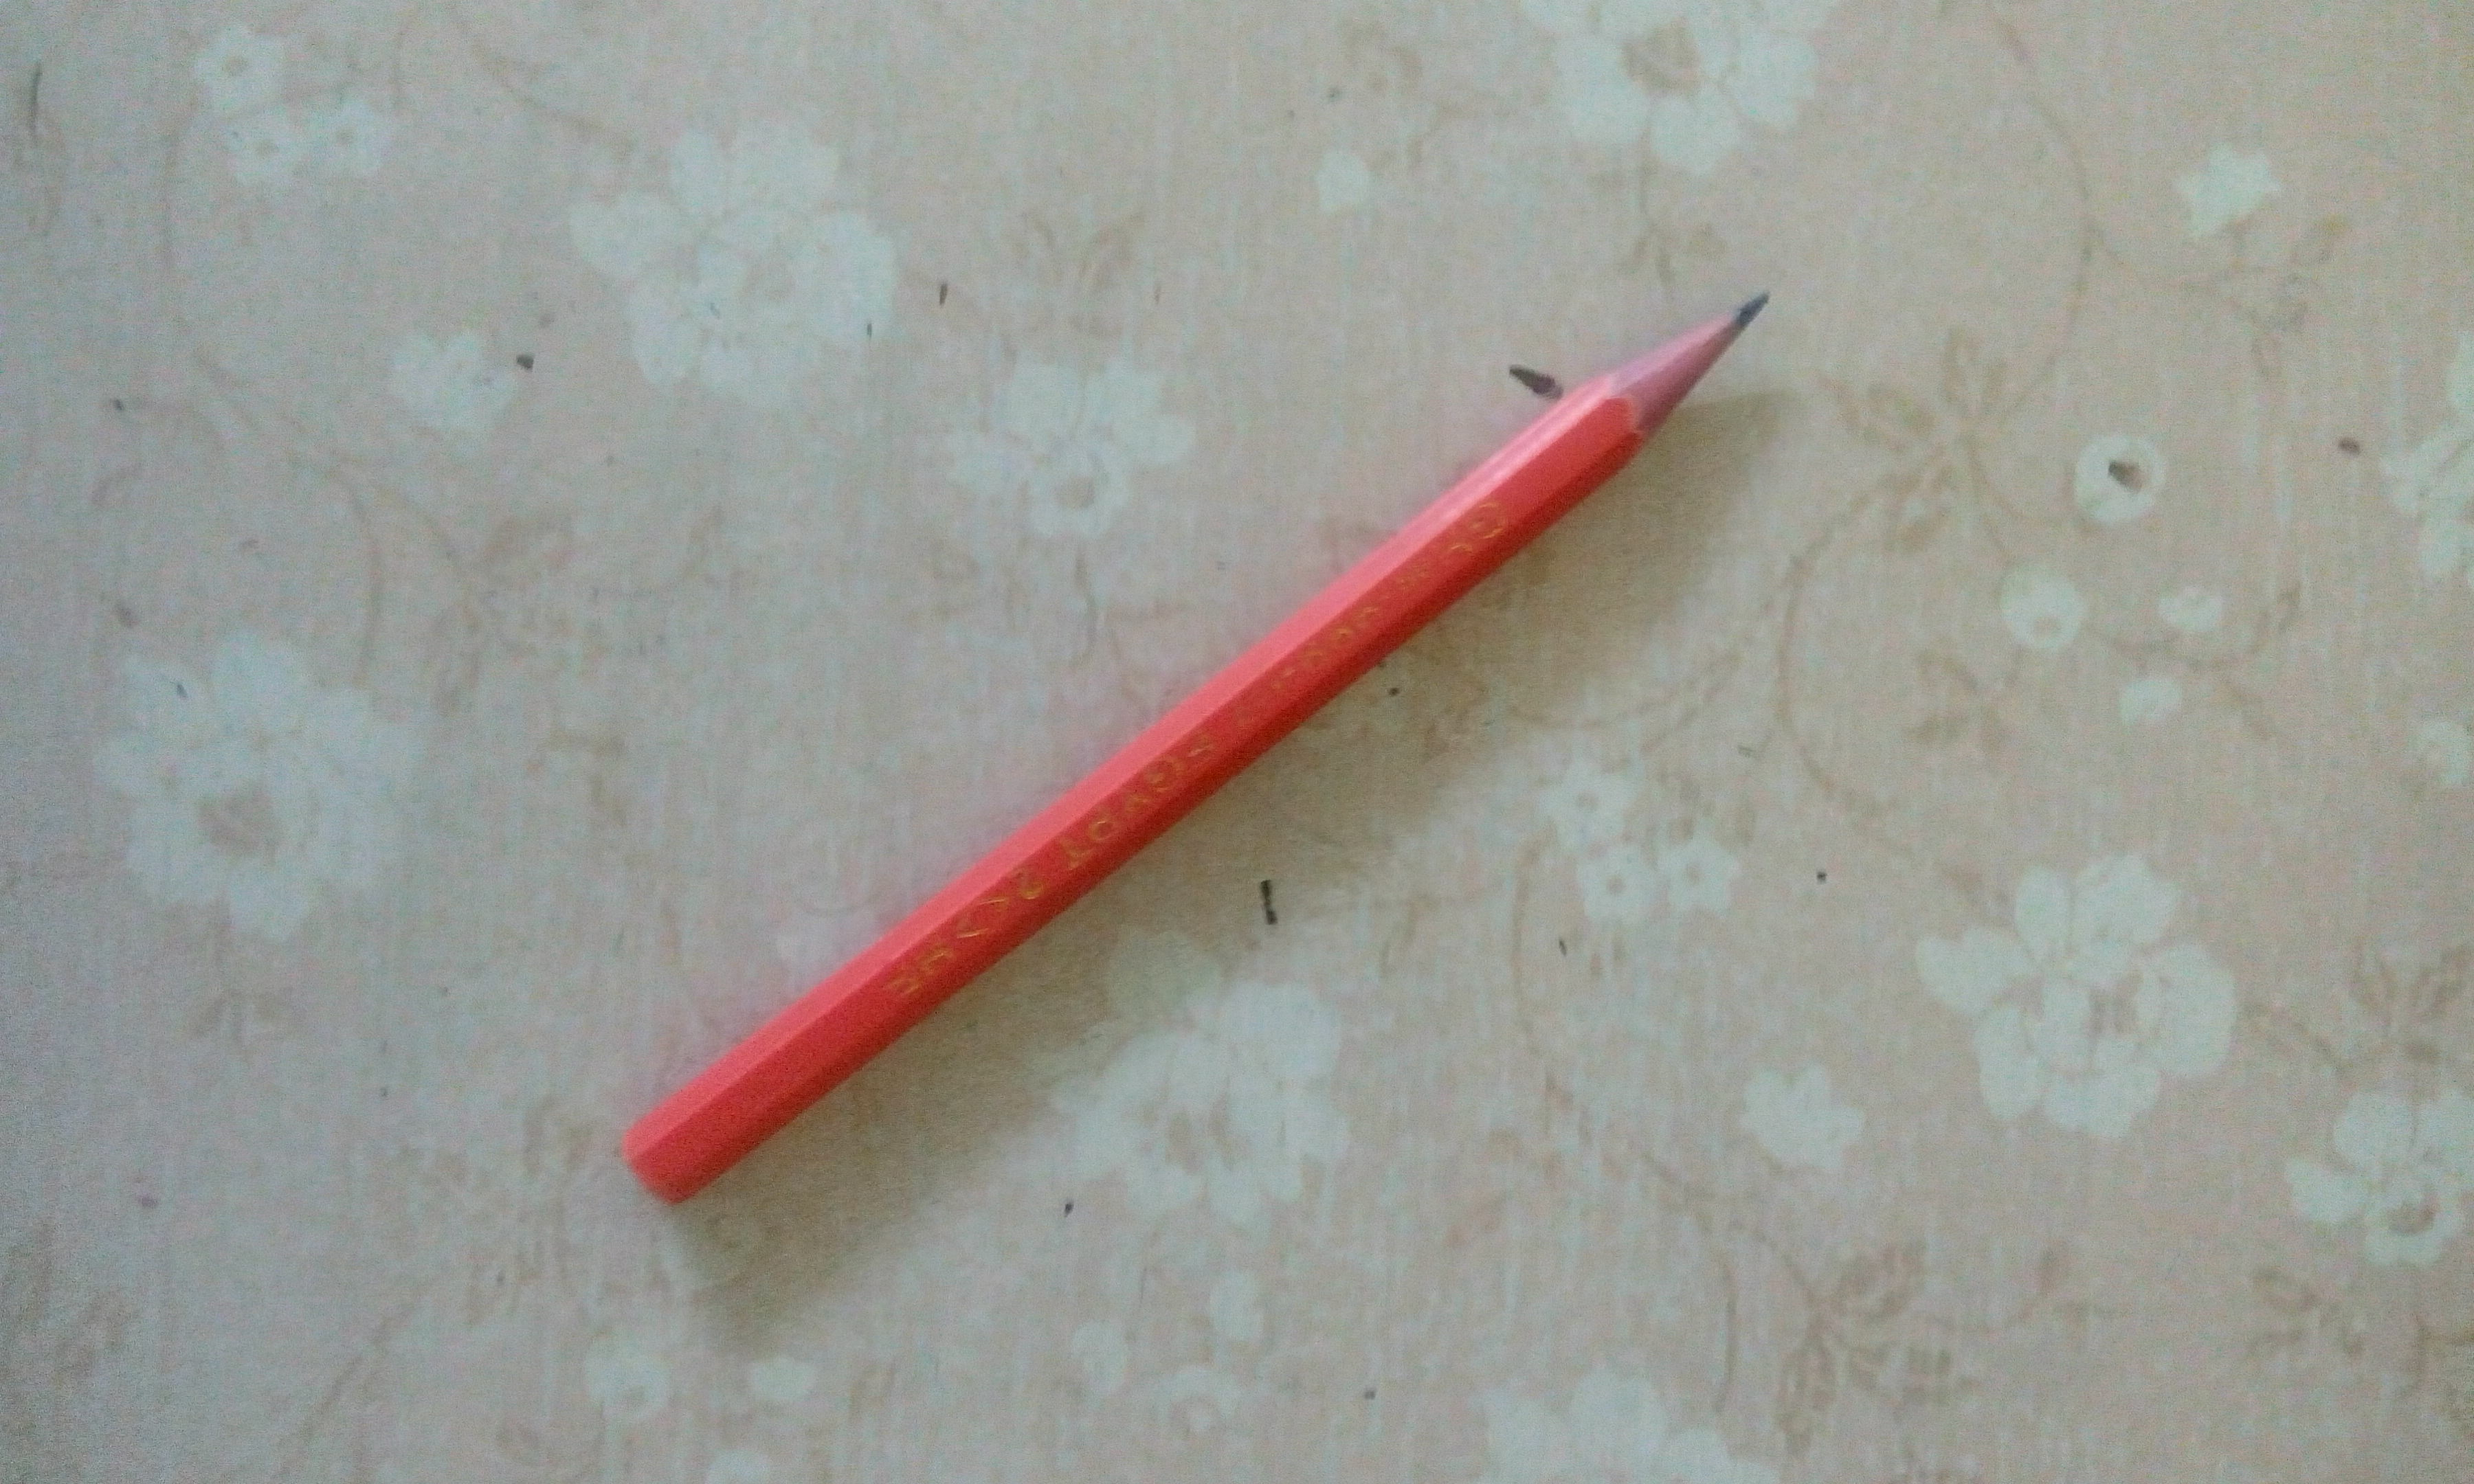pen_tip: (1509, 228, 1873, 470)
